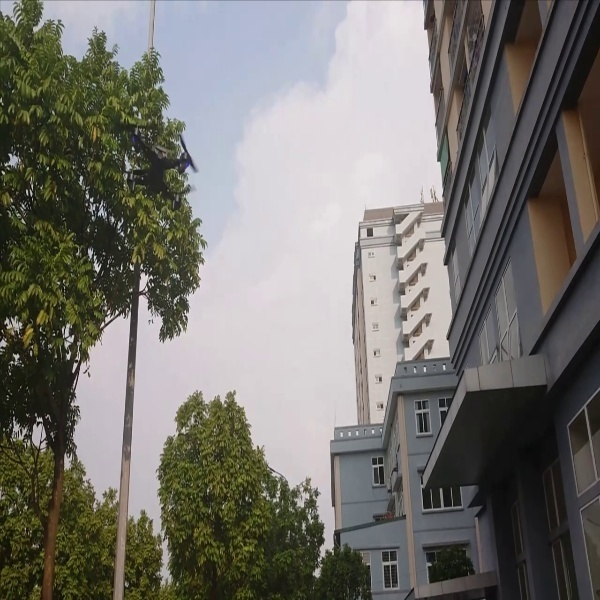drone: (123, 120, 198, 206)
